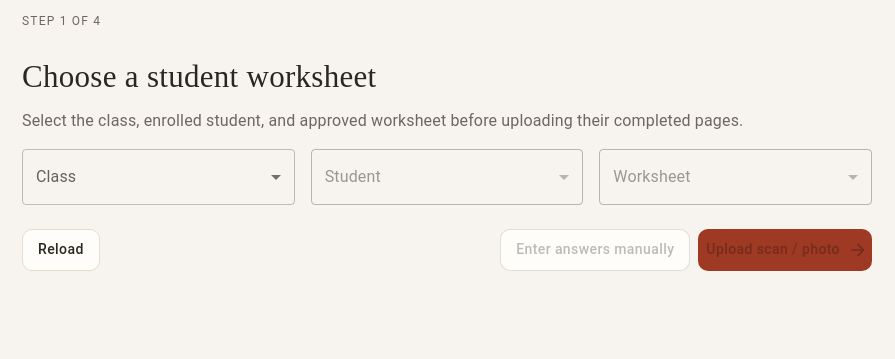
Test: Tutor upload wizard › loads real tutor classes, class-filtered students, and server-filtered worksheets
This screenshot has width=895, height=359.
Step 1. Click the 1st dropdown named "Class" → (158, 176), box [22,148,295,204]
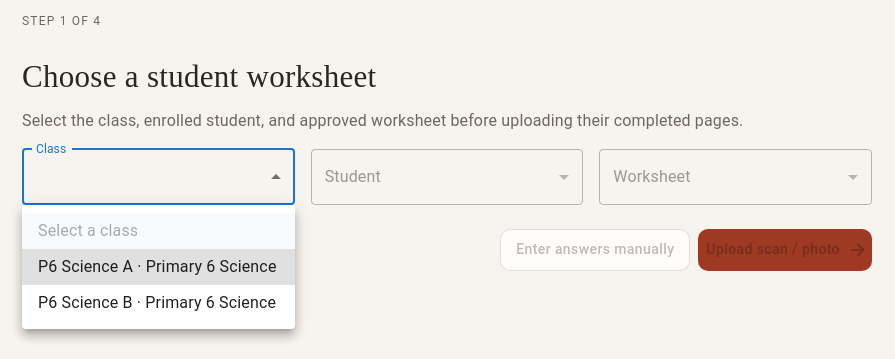
Step 2. Click the option "P6 Science A · Primary 6 Science" → (158, 267), box [22,249,295,285]
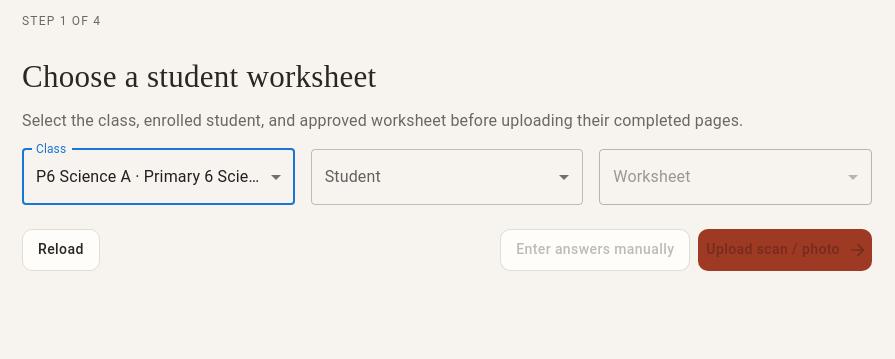
Step 3. Click the 1st dropdown named "Student" → (447, 176), box [311,148,583,204]
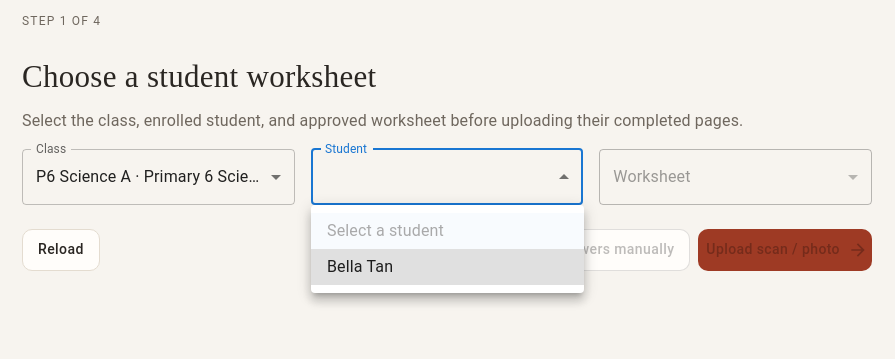
Step 4. Click the option "Bella Tan" → (360, 266), box [311,249,584,285]
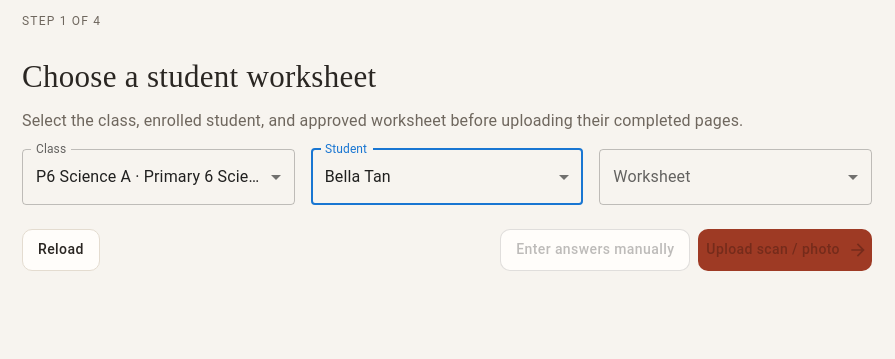
Step 5. Click the dropdown named "Worksheet" → (736, 176), box [599,148,872,204]
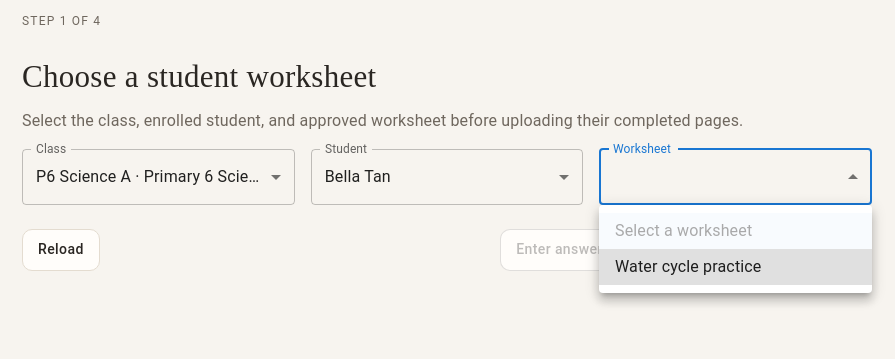
Step 6. Click the option "Water cycle practice" → (736, 267), box [599,249,872,285]
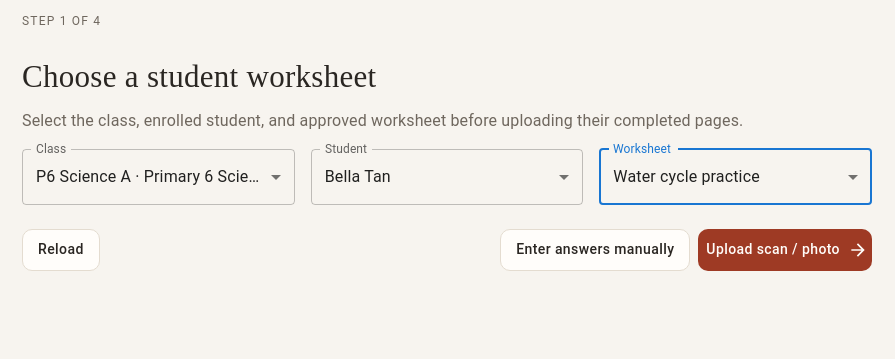
Expected: the button "Upload scan / photo" is enabled, [698,228,872,270]
